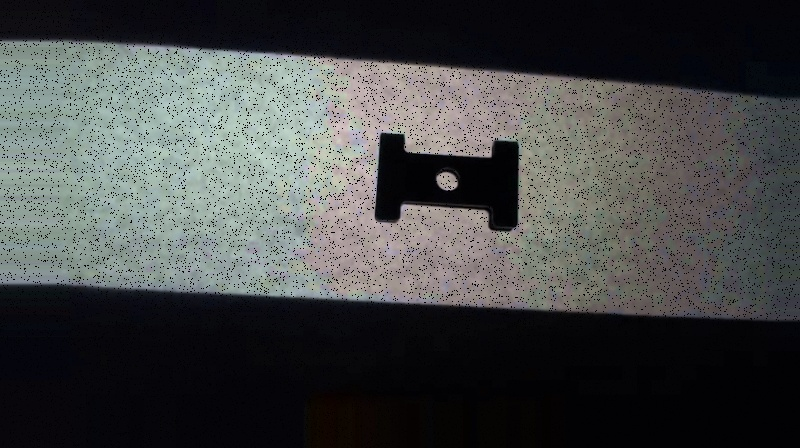O002: (372, 130, 524, 237)
